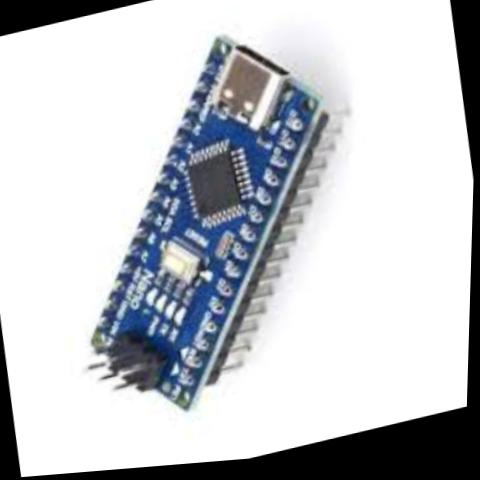Arduino-Nano: (26, 0, 404, 451)
